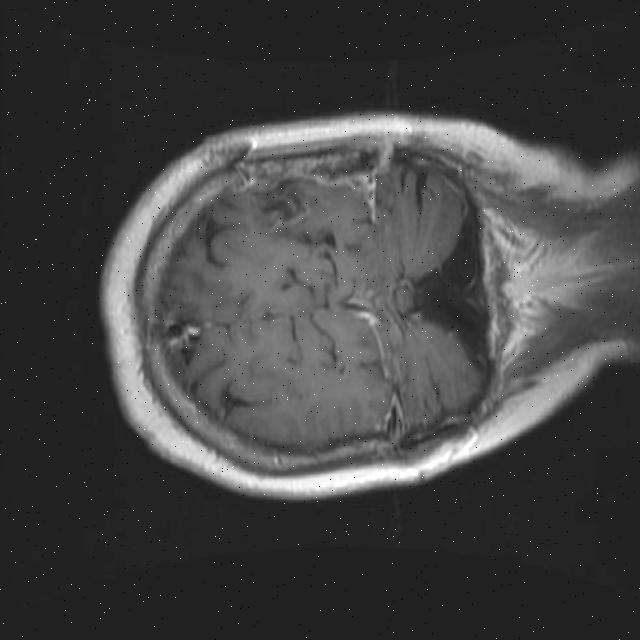Glioma: (255, 182, 311, 231)
